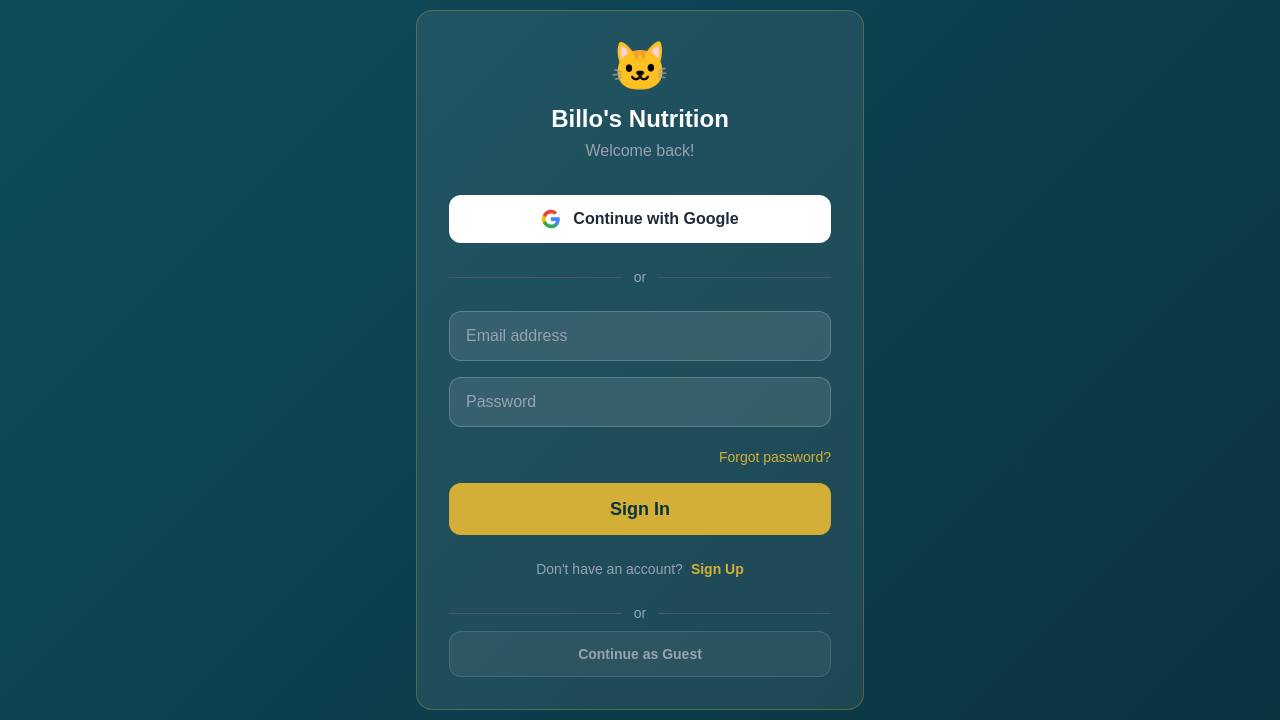
Test case: LoginPage › toggles to sign up mode
What coordinates should you click on to do the following:
click the button "Sign Up"
I would click on:
 (717, 569)
Its box is [691,559,744,579].
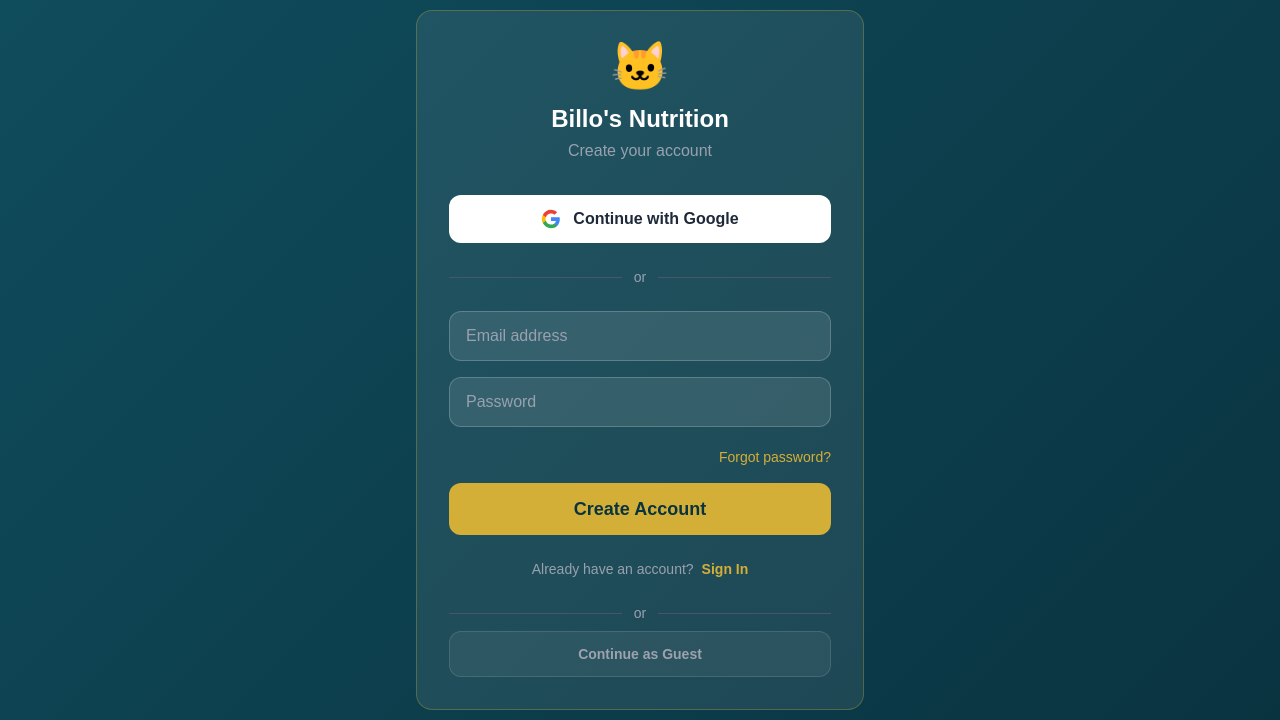
Check: the button "Create Account" is shown, box [449,483,831,535]
Check: the text "Create your account" is shown, box [568,142,712,159]
